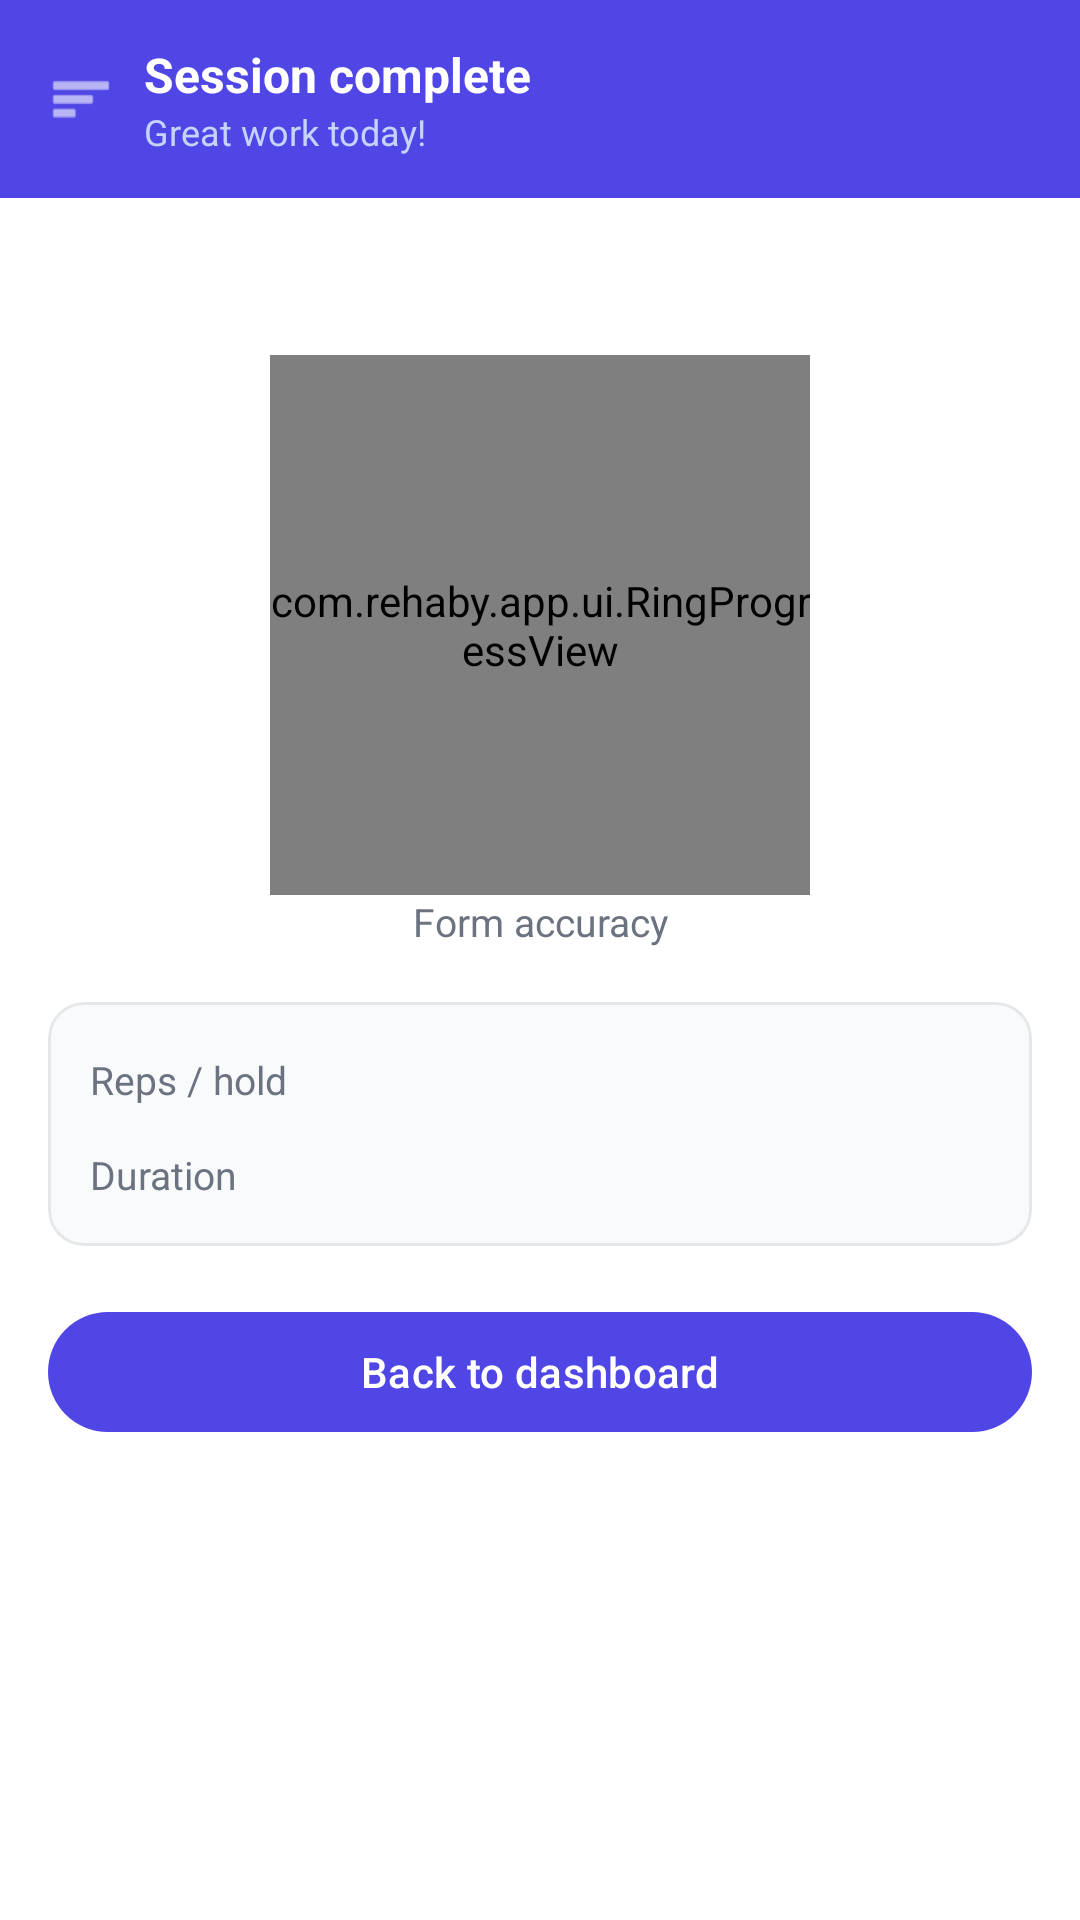

Where to tap for icons on this 1080*1920 app screen, as (x,y):
sort by size: (81,99)
